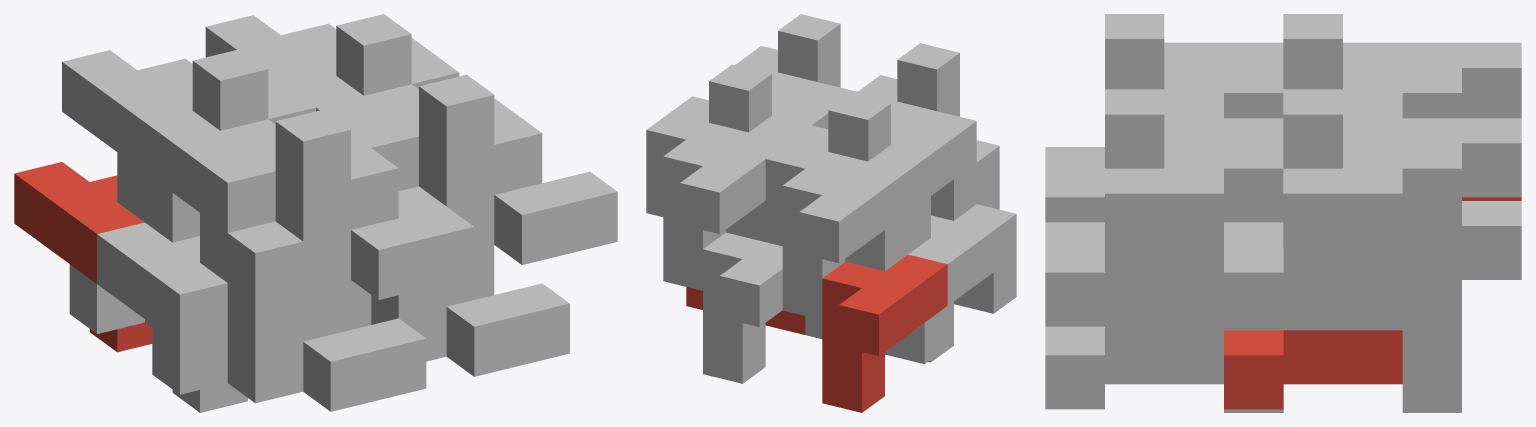
Rendered from tiling.obj.
3 views of the same model, side by side, from view 1: azimuth 30°, elevation 25°; view 2: azimuth 150°, elevation 25°; view 3: azimuth 270°, elevation 25° (orthographic). The views are drawn at different scales.
Parts seen in each view (by area): view 1: copy_2_domain_2, copy_2_domain_4, copy_2_domain_8, copy_1_domain_4, copy_1_domain_2, copy_2_domain_6, copy_1_domain_3, copy_1_domain_8, copy_1_domain_1, copy_1_domain_7, copy_2_domain_3, copy_2_domain_1 (+2 smaller); view 2: copy_1_domain_3, copy_1_domain_7, copy_1_domain_1, copy_1_domain_5, copy_1_domain_4, copy_1_domain_2, copy_2_domain_3, copy_2_domain_4, copy_2_domain_7, copy_1_domain_8, copy_2_domain_8, copy_2_domain_2 (+2 smaller); view 3: copy_1_domain_7, copy_1_domain_8, copy_2_domain_7, copy_2_domain_8, copy_1_domain_3, copy_1_domain_5, copy_2_domain_6, copy_2_domain_5, copy_1_domain_4, copy_2_domain_4, copy_2_domain_3, copy_1_domain_6.
Boxes of the visible parts, x1=… form: copy_2_domain_2: x1=152, y1=221, x2=426, y2=411; copy_2_domain_4: x1=200, y1=109, x2=474, y2=299; copy_2_domain_8: x1=419, y1=74, x2=617, y2=264; copy_1_domain_4: x1=145, y1=110, x2=398, y2=232; copy_1_domain_2: x1=97, y1=222, x2=350, y2=412; copy_2_domain_6: x1=351, y1=186, x2=569, y2=376; copy_1_domain_3: x1=62, y1=50, x2=315, y2=171; copy_1_domain_8: x1=289, y1=76, x2=542, y2=194; copy_1_domain_1: x1=14, y1=162, x2=152, y2=352; copy_1_domain_7: x1=205, y1=15, x2=459, y2=89; copy_2_domain_3: x1=117, y1=49, x2=268, y2=221; copy_2_domain_1: x1=69, y1=172, x2=199, y2=333; copy_1_domain_3: x1=765, y1=125, x2=907, y2=319; copy_1_domain_7: x1=646, y1=96, x2=788, y2=290; copy_1_domain_1: x1=822, y1=254, x2=947, y2=412; copy_1_domain_5: x1=703, y1=232, x2=782, y2=383; copy_1_domain_4: x1=854, y1=75, x2=976, y2=212; copy_1_domain_2: x1=908, y1=204, x2=1016, y2=362; copy_2_domain_3: x1=765, y1=93, x2=907, y2=271; copy_2_domain_4: x1=897, y1=43, x2=976, y2=220; copy_2_domain_7: x1=646, y1=64, x2=771, y2=241; copy_1_domain_8: x1=735, y1=46, x2=857, y2=141; copy_2_domain_8: x1=778, y1=14, x2=840, y2=87; copy_2_domain_2: x1=954, y1=140, x2=1016, y2=313; copy_1_domain_7: x1=1283, y1=118, x2=1521, y2=330; copy_1_domain_8: x1=1105, y1=118, x2=1283, y2=330; copy_2_domain_7: x1=1224, y1=89, x2=1402, y2=326; copy_2_domain_8: x1=1045, y1=89, x2=1223, y2=326; copy_1_domain_3: x1=1343, y1=42, x2=1521, y2=118; copy_1_domain_5: x1=1283, y1=201, x2=1521, y2=412; copy_2_domain_6: x1=1045, y1=326, x2=1223, y2=409; copy_2_domain_5: x1=1224, y1=330, x2=1402, y2=409; copy_1_domain_4: x1=1164, y1=42, x2=1283, y2=118; copy_2_domain_4: x1=1045, y1=14, x2=1164, y2=222; copy_2_domain_3: x1=1283, y1=14, x2=1342, y2=89; copy_1_domain_6: x1=1105, y1=301, x2=1283, y2=412.
Size of the model in its own units: 8 by 6 by 8.
